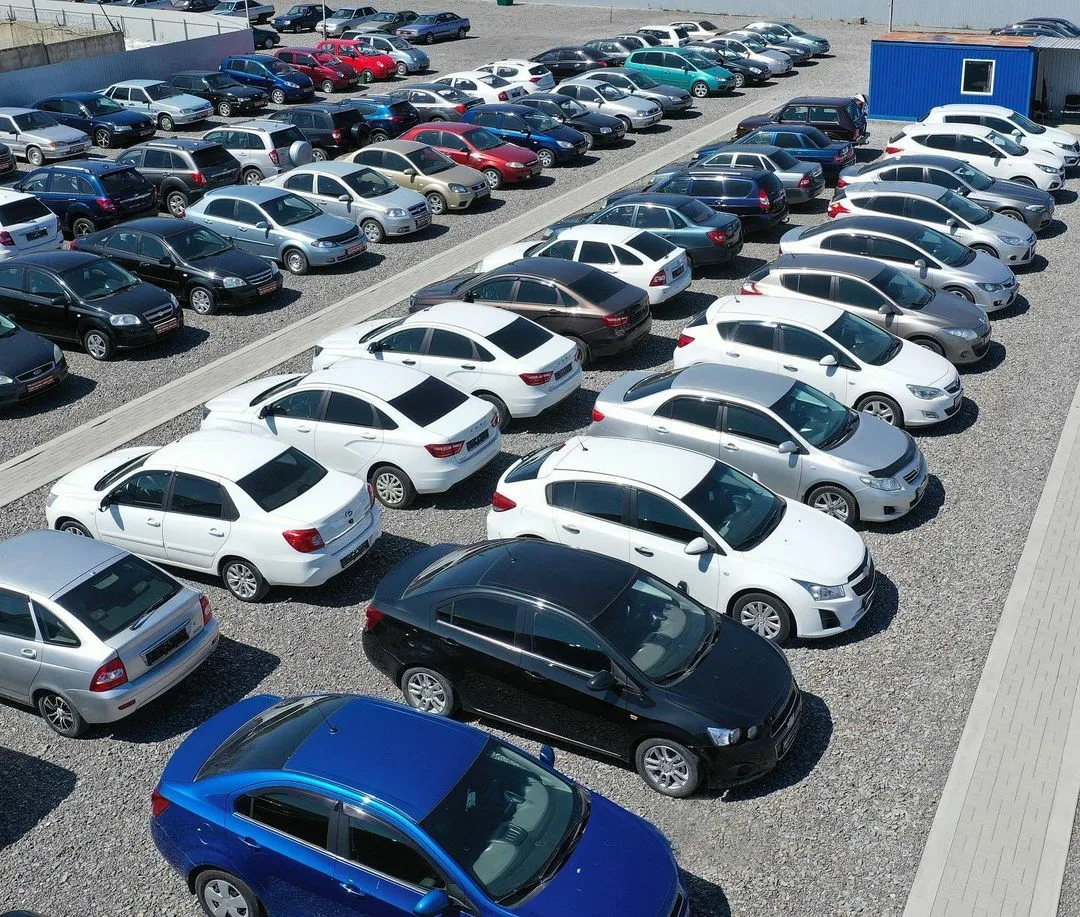Car: (150, 693, 689, 917), (361, 540, 803, 798), (486, 436, 876, 645), (45, 431, 381, 603), (589, 364, 930, 526), (0, 529, 221, 739), (200, 360, 502, 510), (672, 295, 964, 428), (312, 302, 583, 427), (739, 251, 992, 367), (409, 258, 651, 365), (779, 215, 1020, 314), (69, 217, 282, 316), (0, 250, 183, 361), (827, 182, 1037, 266), (478, 226, 693, 307), (838, 155, 1055, 232), (184, 185, 367, 276), (542, 193, 744, 269), (261, 162, 432, 244), (883, 123, 1066, 194), (604, 168, 789, 236), (339, 141, 491, 215), (12, 160, 158, 237), (651, 145, 824, 207), (920, 104, 1080, 166), (116, 138, 241, 215), (402, 122, 544, 189), (691, 125, 855, 182), (461, 105, 590, 168), (201, 120, 315, 183), (0, 315, 69, 409), (736, 96, 868, 145), (35, 94, 155, 147), (561, 69, 693, 115), (625, 47, 736, 99), (514, 95, 627, 146), (100, 81, 213, 132), (550, 80, 662, 131), (270, 104, 371, 159), (0, 108, 91, 166), (0, 185, 65, 259), (220, 55, 314, 103), (168, 72, 269, 114), (701, 34, 794, 77), (681, 43, 770, 86), (275, 48, 358, 93), (340, 95, 421, 141), (317, 40, 397, 83), (391, 85, 485, 120), (354, 33, 430, 76), (724, 29, 814, 64), (431, 70, 525, 103), (532, 45, 618, 79), (746, 21, 830, 55), (477, 59, 555, 94), (397, 12, 470, 44), (316, 5, 377, 38), (271, 3, 333, 33), (584, 37, 639, 64), (357, 10, 418, 34), (212, 0, 274, 23), (636, 25, 691, 47), (670, 19, 722, 42), (1009, 21, 1078, 37), (1025, 17, 1080, 37), (249, 24, 281, 48), (995, 27, 1063, 38), (616, 32, 659, 48), (168, 0, 219, 13), (339, 29, 392, 40), (0, 142, 16, 177), (118, 0, 171, 10)
